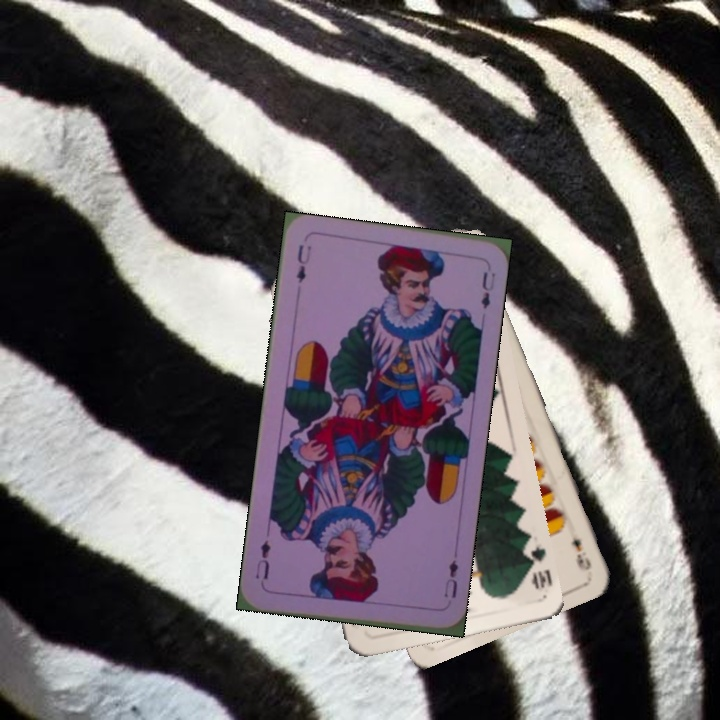E9: (567, 533, 594, 573)
EU: (291, 240, 314, 286), (440, 555, 461, 601)
G10: (519, 538, 554, 593)
